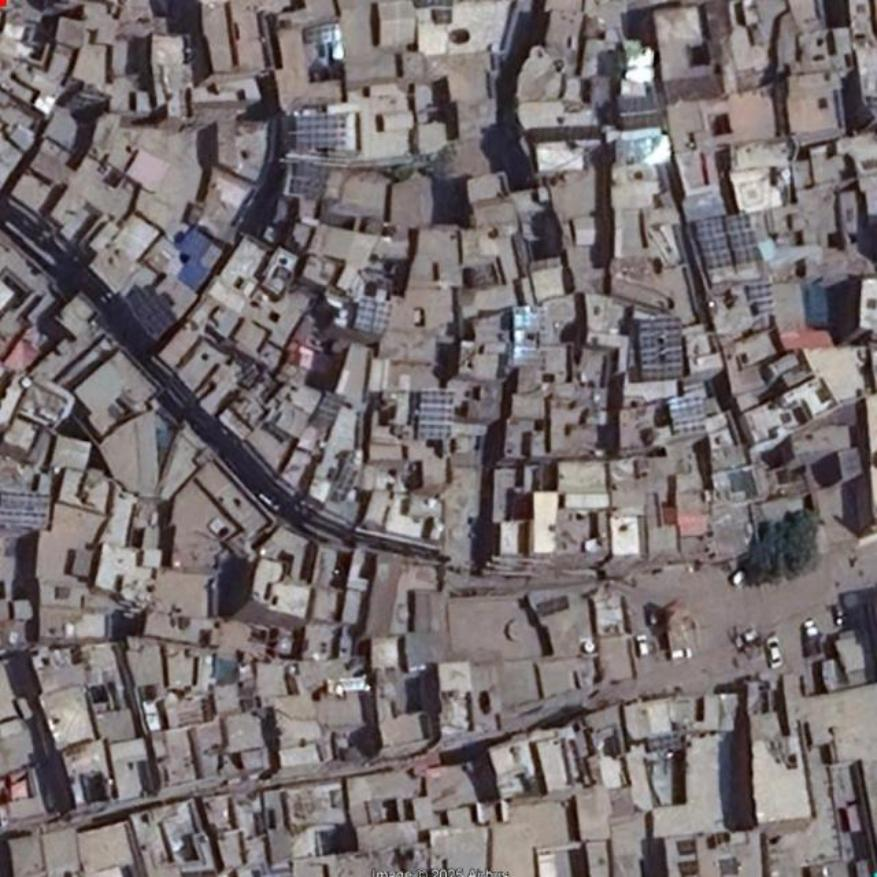Solarpanel: (696, 212, 761, 269), (640, 317, 687, 383), (416, 388, 453, 440), (294, 116, 346, 148), (666, 394, 707, 433), (354, 297, 394, 335), (615, 97, 659, 128), (328, 465, 358, 503), (314, 391, 346, 425)
